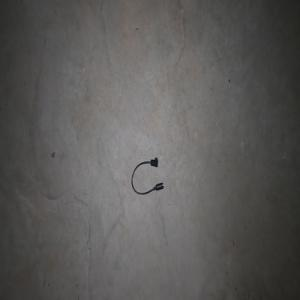Wire: (131, 157, 164, 194)
